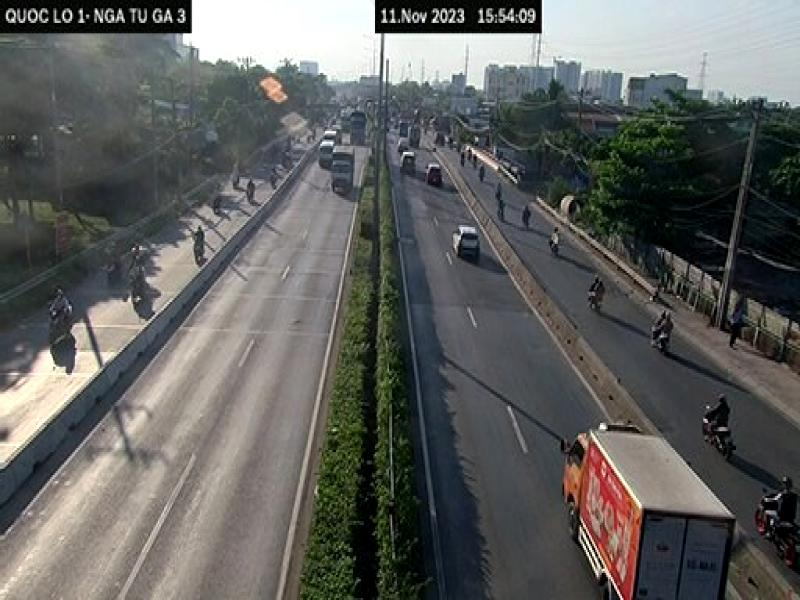truck: (563, 417, 735, 600), (328, 141, 356, 189)
